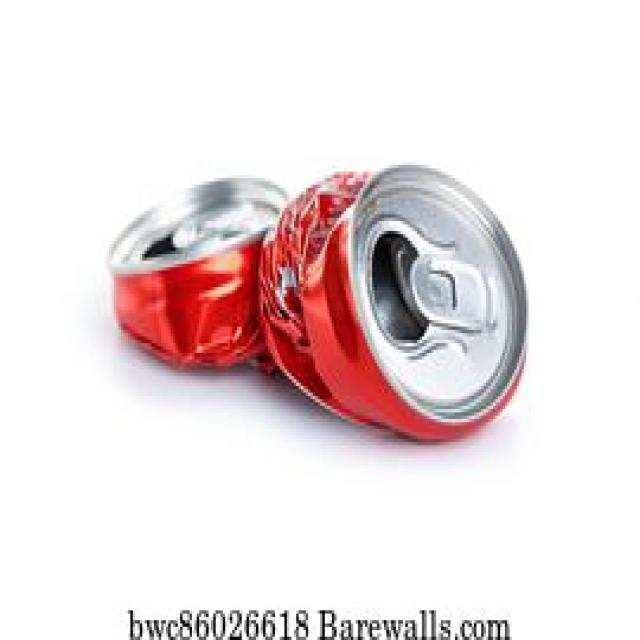non-organic waste: (258, 126, 553, 534), (89, 165, 288, 432)
